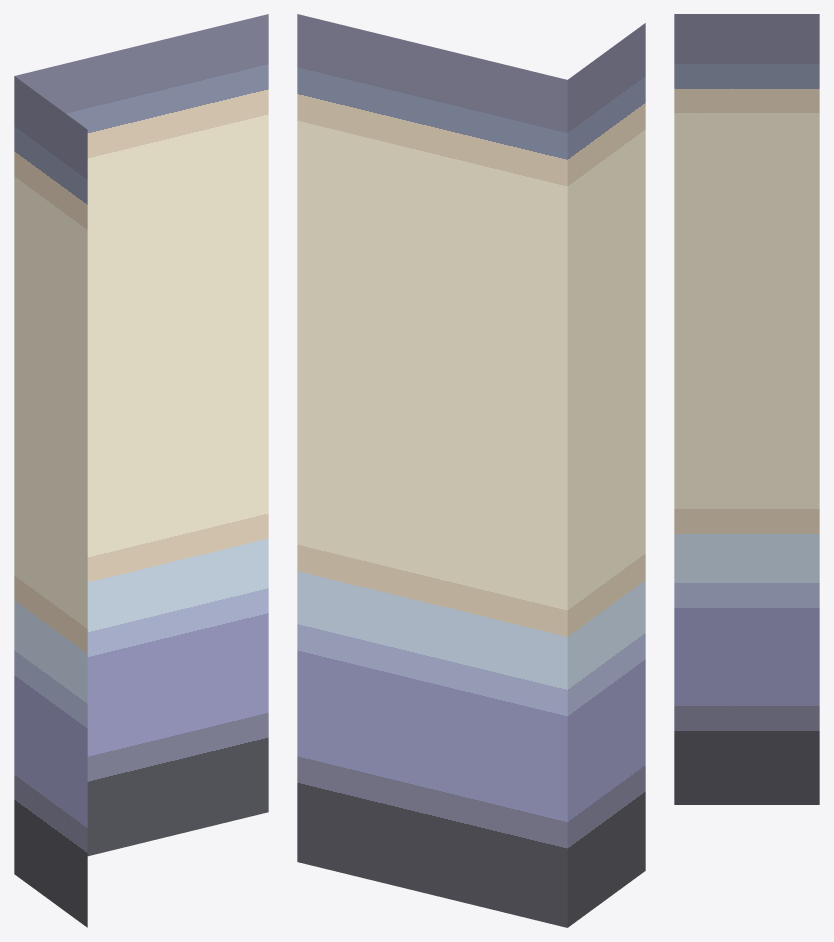
3 renders of one model, left to right at view 1: azimuth 30°, elevation 25°; view 2: azimuth 150°, elevation 25°; view 3: azimuth 270°, elevation 25°, orthographic. The views are drawn at different scales.
Bounding box in the file's own units: 1 × 3 × 0.5.
1 material, 1 textured.
